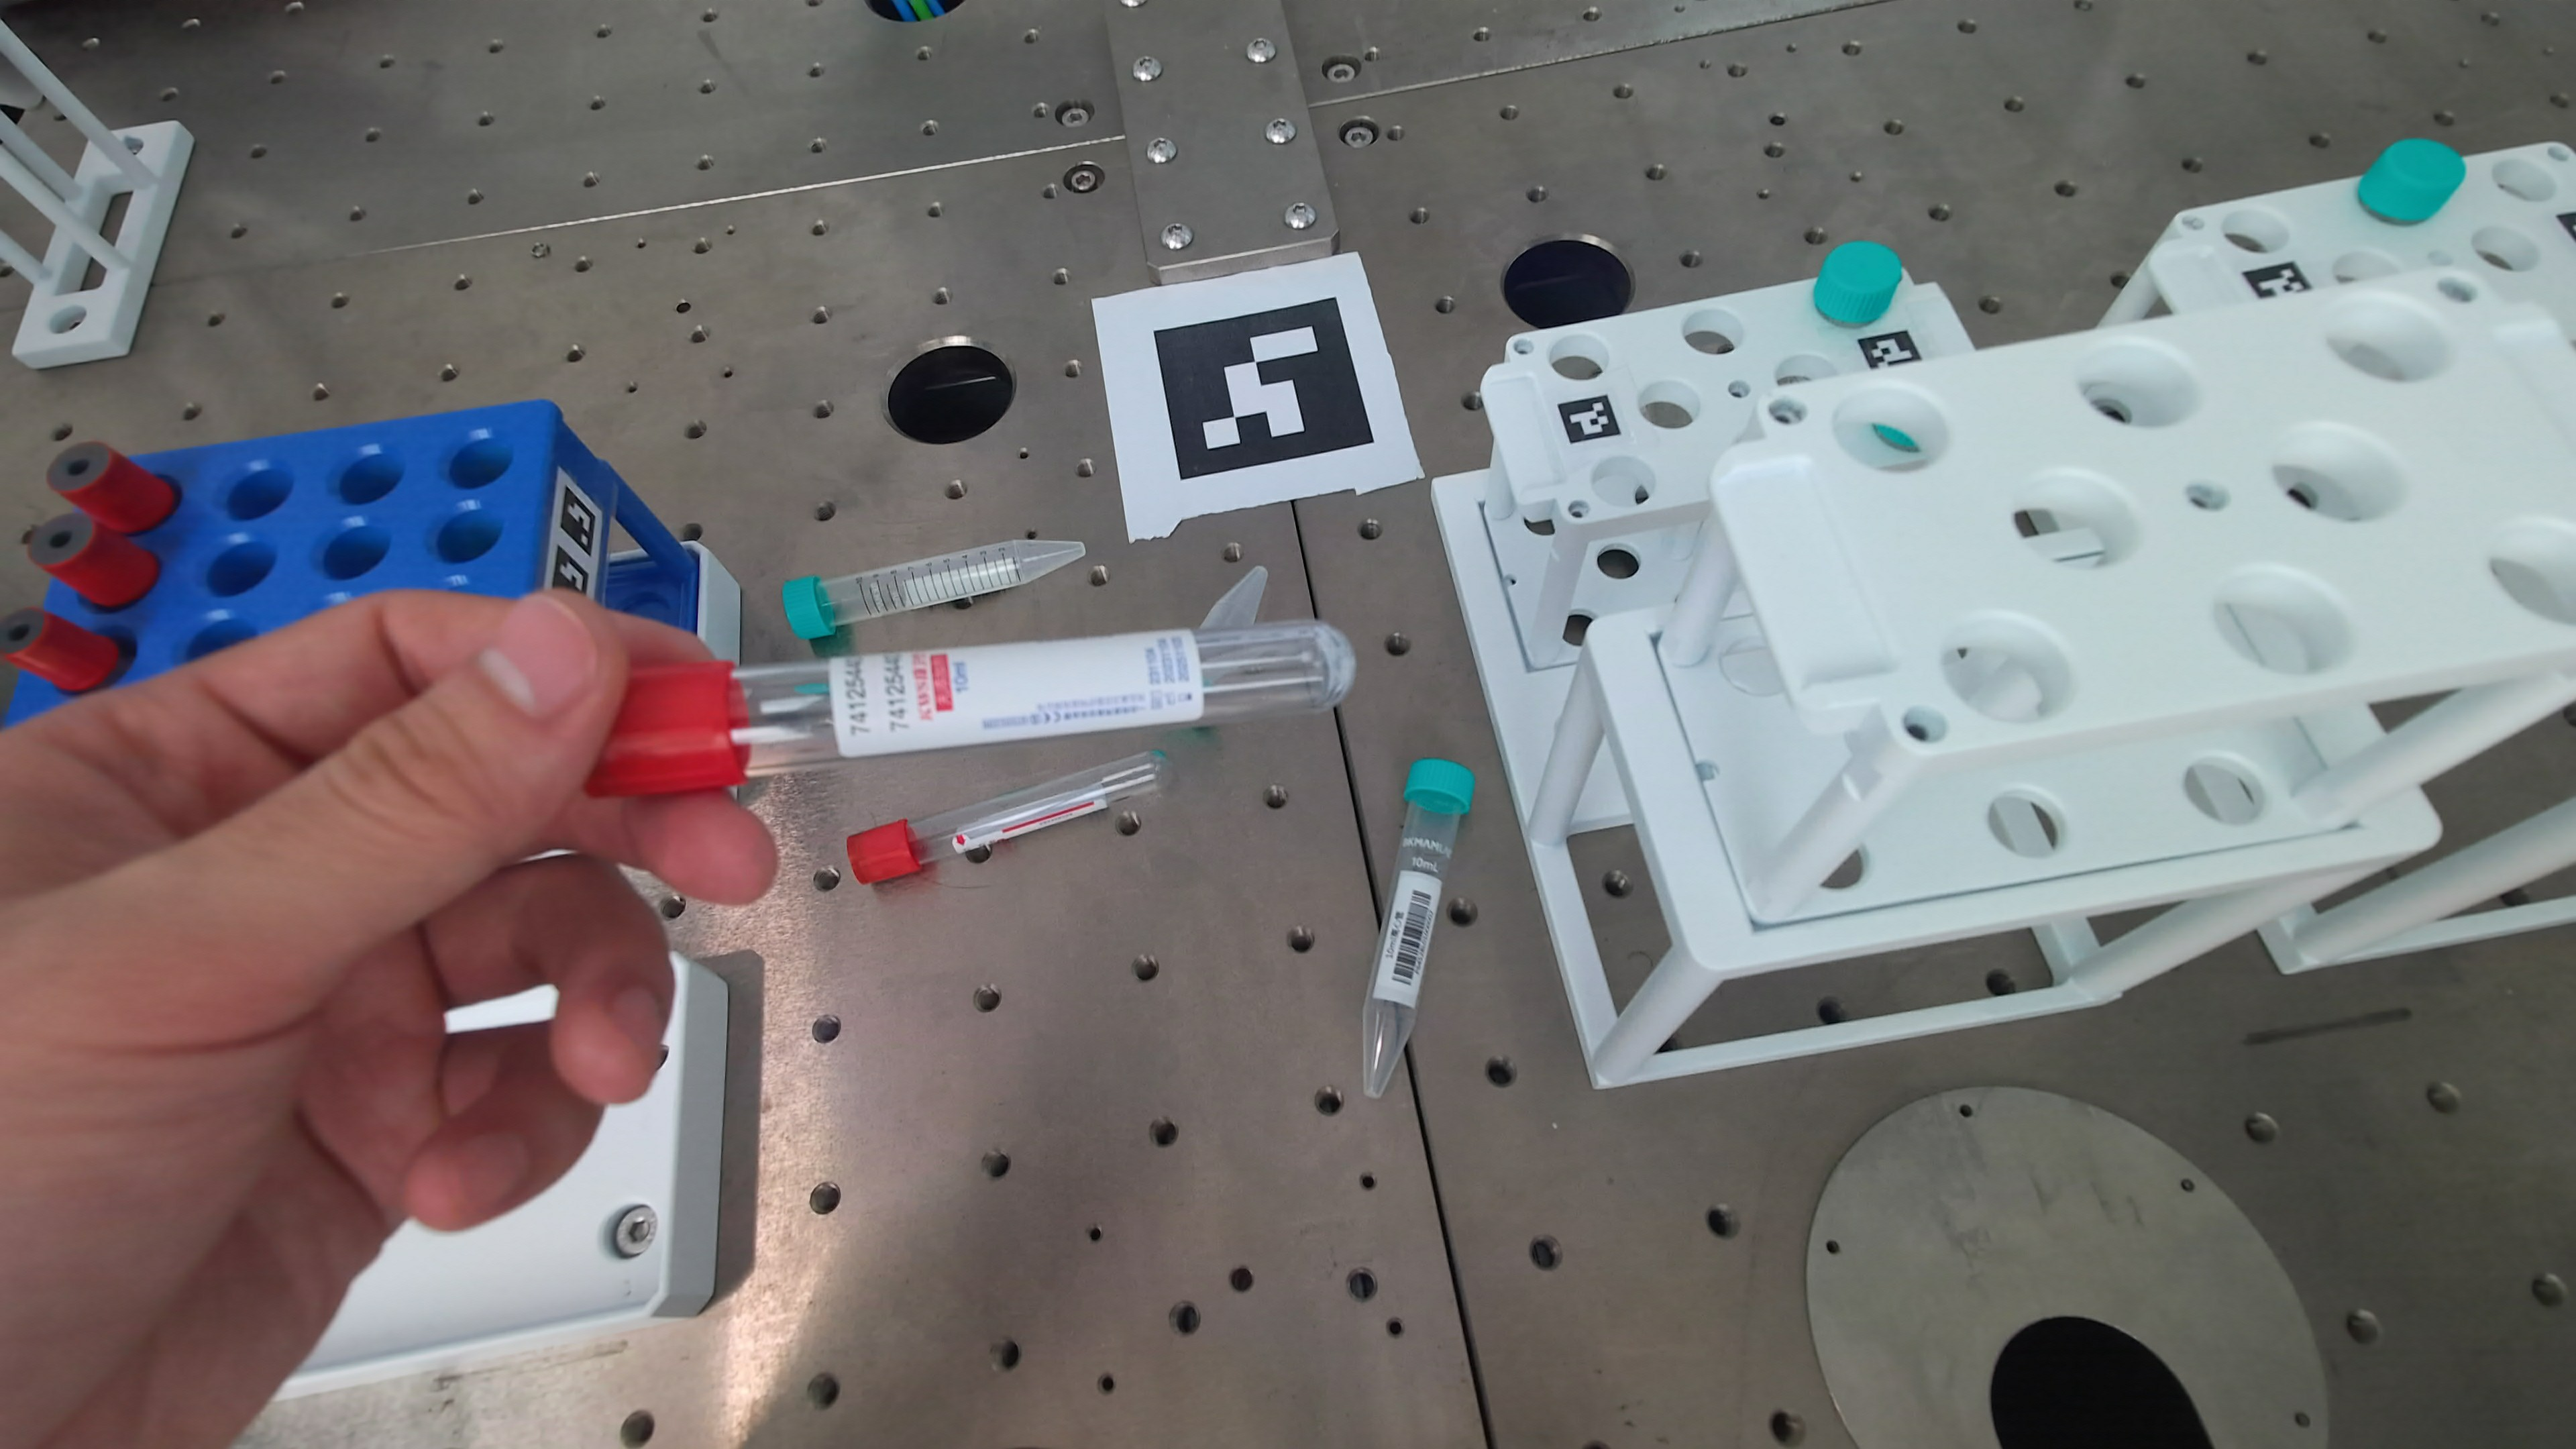10ML_centrifuge_tube: (1362, 761, 1472, 1097), (782, 541, 1086, 642), (2357, 138, 2465, 223), (1813, 241, 1902, 326), (1200, 566, 1269, 630), (1872, 423, 1921, 453)
10ML_sorting_tube_rack: (7, 400, 701, 724)
blood_tube: (587, 623, 1352, 796), (847, 752, 1168, 883), (28, 511, 159, 609), (48, 441, 177, 534), (0, 609, 120, 694)
dispensing_tube_rack: (1435, 143, 2576, 1244)
sorting_tube_rack_base: (287, 955, 727, 1392), (692, 543, 741, 663), (444, 984, 557, 1033)
